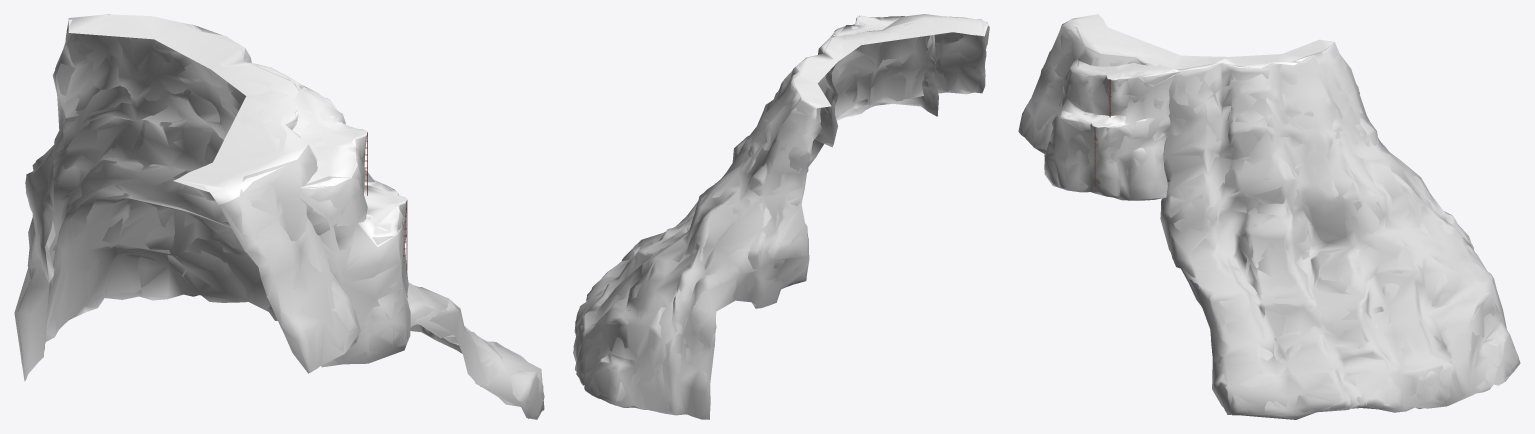
File: ground_un_dlc1_cliff24_01.gltf
The picture shows the model from 3 angles, left to right: view 1: azimuth 30°, elevation 25°; view 2: azimuth 150°, elevation 25°; view 3: azimuth 270°, elevation 25°; orthographic projection. The views are drawn at different scales.
Parts seen in each view (by area): view 1: um_ground_un_dlc1_cliff24_01_model_lod2Shape:ground_un_dlc1_ (×2), um_ground_un_dlc1_cliff24_01_model_lod0Shape:ground_un_dlc1_ (×2), um_ground_un_dlc1_cliff24_01_model_lod1Shape:ground_un_dlc1_ (×2); view 2: um_ground_un_dlc1_cliff24_01_model_lod2Shape:ground_un_dlc1_ (×2), um_ground_un_dlc1_cliff24_01_model_lod0Shape:ground_un_dlc1_ (×2), um_ground_un_dlc1_cliff24_01_model_lod1Shape:ground_un_dlc1_ (×2); view 3: um_ground_un_dlc1_cliff24_01_model_lod2Shape:ground_un_dlc1_ (×2), um_ground_un_dlc1_cliff24_01_model_lod0Shape:ground_un_dlc1_ (×2), um_ground_un_dlc1_cliff24_01_model_lod1Shape:ground_un_dlc1_ (×2).
Part boxes in pixels (x1,y1,x2,y2): um_ground_un_dlc1_cliff24_01_model_lod2Shape:ground_un_dlc1_ (×2): [14, 14, 544, 418]; um_ground_un_dlc1_cliff24_01_model_lod0Shape:ground_un_dlc1_ (×2): [17, 14, 544, 418]; um_ground_un_dlc1_cliff24_01_model_lod1Shape:ground_un_dlc1_ (×2): [17, 17, 543, 419]; um_ground_un_dlc1_cliff24_01_model_lod2Shape:ground_un_dlc1_ (×2): [573, 14, 989, 419]; um_ground_un_dlc1_cliff24_01_model_lod0Shape:ground_un_dlc1_ (×2): [574, 16, 989, 419]; um_ground_un_dlc1_cliff24_01_model_lod1Shape:ground_un_dlc1_ (×2): [573, 15, 989, 418]; um_ground_un_dlc1_cliff24_01_model_lod2Shape:ground_un_dlc1_ (×2): [1025, 20, 1520, 415]; um_ground_un_dlc1_cliff24_01_model_lod0Shape:ground_un_dlc1_ (×2): [1018, 14, 1518, 419]; um_ground_un_dlc1_cliff24_01_model_lod1Shape:ground_un_dlc1_ (×2): [1019, 14, 1520, 419].
Size of what is drawn, in the model's own units: 152 by 140 by 224.
Materials: 3 (1 with a texture image).
